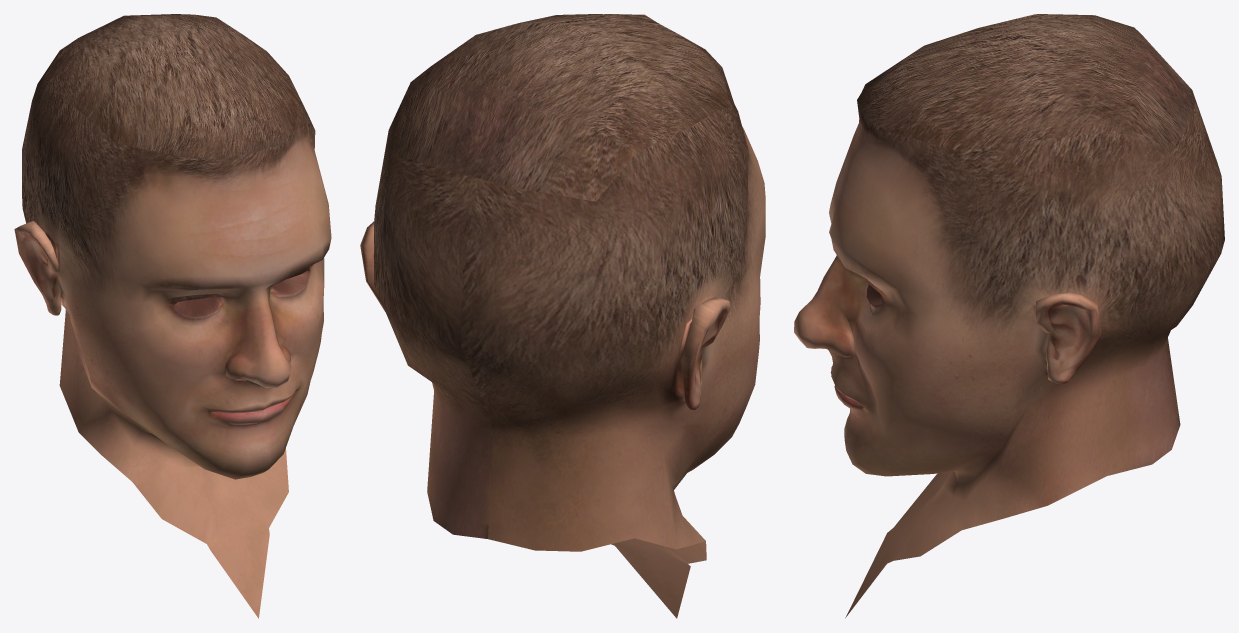
3 renders of one model, left to right at view 1: azimuth 30°, elevation 25°; view 2: azimuth 150°, elevation 25°; view 3: azimuth 270°, elevation 25°, orthographic. The views are drawn at different scales.
Parts seen in each view (by area): view 1: Face1 Brad_Skin CharacterRoot; view 2: Face1 Brad_Skin CharacterRoot; view 3: Face1 Brad_Skin CharacterRoot.
Boxes of the visible parts, <box> form: Face1 Brad_Skin CharacterRoot: <box>14,14,331,618</box>; Face1 Brad_Skin CharacterRoot: <box>360,14,765,618</box>; Face1 Brad_Skin CharacterRoot: <box>794,14,1224,618</box>.
Bounding box in the file's own units: 19.06 × 35.24 × 23.3.
1 material, 1 textured.
